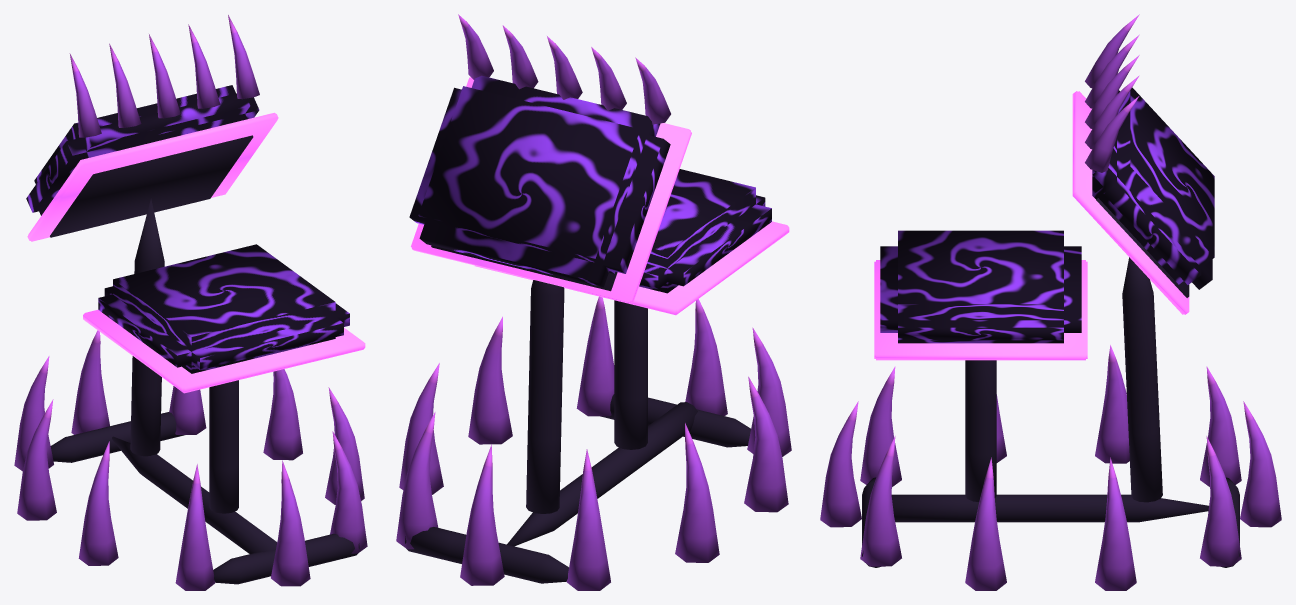
The model's file is VoidBench.glb.
3 renders of one model, left to right at view 1: azimuth 30°, elevation 25°; view 2: azimuth 150°, elevation 25°; view 3: azimuth 270°, elevation 25°, orthographic. The views are drawn at different scales.
Visible parts, largest first — view 1: VoidBench, VoidBench_Glow; view 2: VoidBench, VoidBench_Glow; view 3: VoidBench, VoidBench_Glow.
Part boxes in pixels (<box>): VoidBench: <box>14,15,367,590</box>; VoidBench_Glow: <box>27,112,365,393</box>; VoidBench: <box>396,14,791,590</box>; VoidBench_Glow: <box>411,77,789,315</box>; VoidBench: <box>820,14,1281,590</box>; VoidBench_Glow: <box>874,91,1189,360</box>.
Size of the model in its own units: 1.92 by 2.98 by 2.64.
2 materials, 1 textured.
